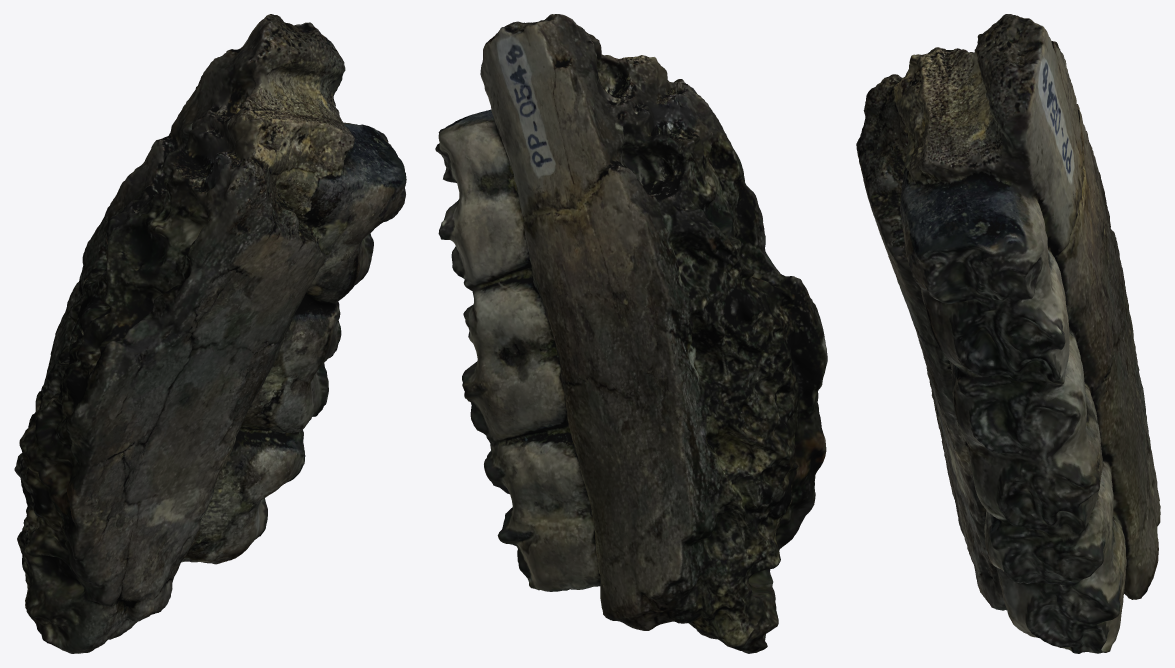
The model's file is 3-2_Hipparion_Horse_Tooth_3DModel.glb.
3 views of the same model, side by side, from view 1: azimuth 30°, elevation 25°; view 2: azimuth 150°, elevation 25°; view 3: azimuth 270°, elevation 25° (orthographic). The views are drawn at different scales.
Visible parts, largest first — view 1: 3DModel; view 2: 3DModel; view 3: 3DModel.
Boxes of the visible parts, box(x1,y1,x2,y2) form: 3DModel: box(14, 14, 406, 653); 3DModel: box(435, 14, 827, 653); 3DModel: box(856, 14, 1160, 653).
Bounding box in the file's own units: 0.3297 × 0.5153 × 0.2042.
1 material, 1 textured.
